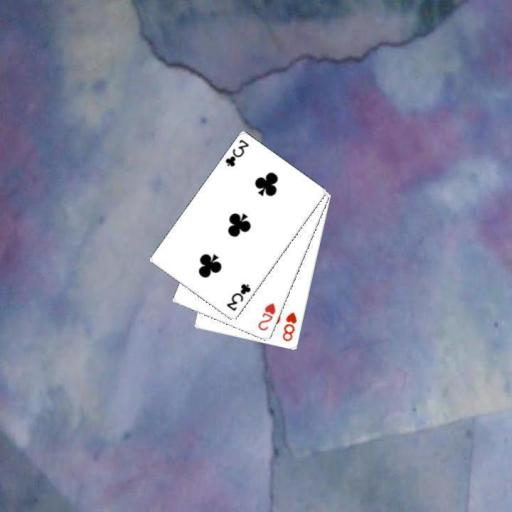card-corner: (224, 281, 252, 313), (222, 136, 250, 168), (254, 300, 278, 332), (280, 308, 298, 342)
